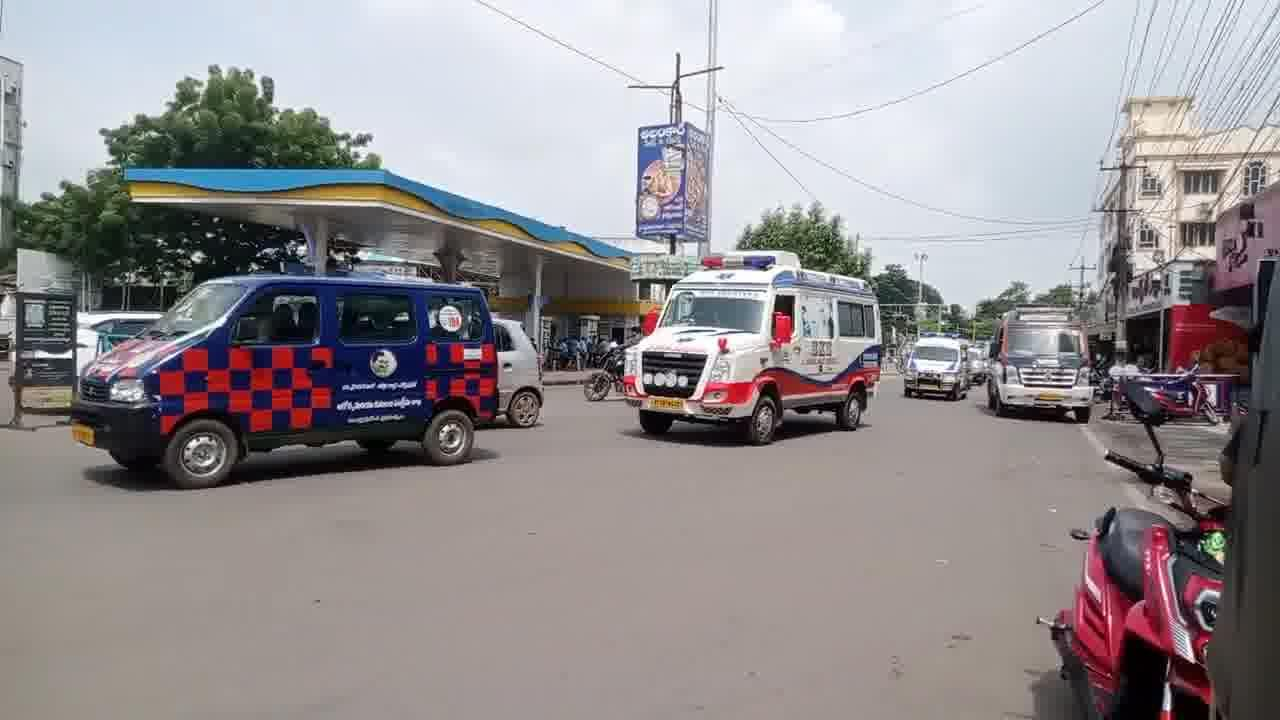AMBULANCE: (57, 261, 537, 541), (620, 231, 927, 455), (987, 301, 1115, 436)
